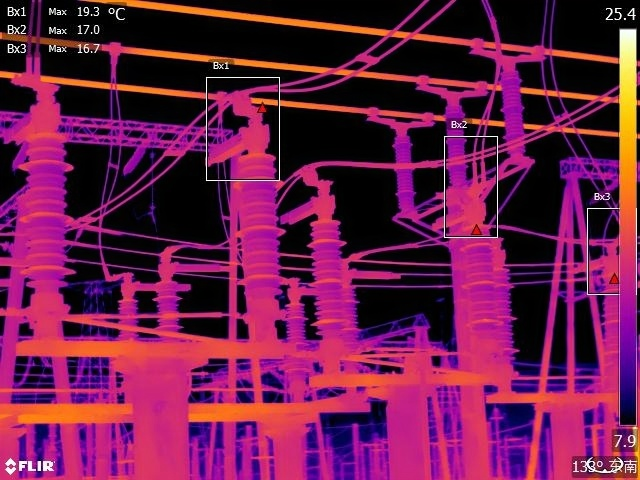clamp: (105, 35, 129, 70)
insulator: (121, 136, 148, 178)
post insulator: (24, 125, 77, 289), (237, 151, 289, 304), (307, 221, 352, 336), (462, 221, 500, 338), (495, 68, 533, 155), (494, 262, 520, 361), (393, 133, 423, 210), (446, 105, 472, 190), (284, 298, 310, 381), (340, 286, 362, 368), (605, 284, 620, 393), (152, 289, 183, 337), (117, 294, 142, 348)
switch: (429, 193, 493, 243), (17, 95, 71, 149), (279, 189, 345, 229), (160, 248, 231, 281), (115, 273, 199, 297), (341, 261, 406, 290), (575, 252, 620, 281), (281, 274, 320, 301)
